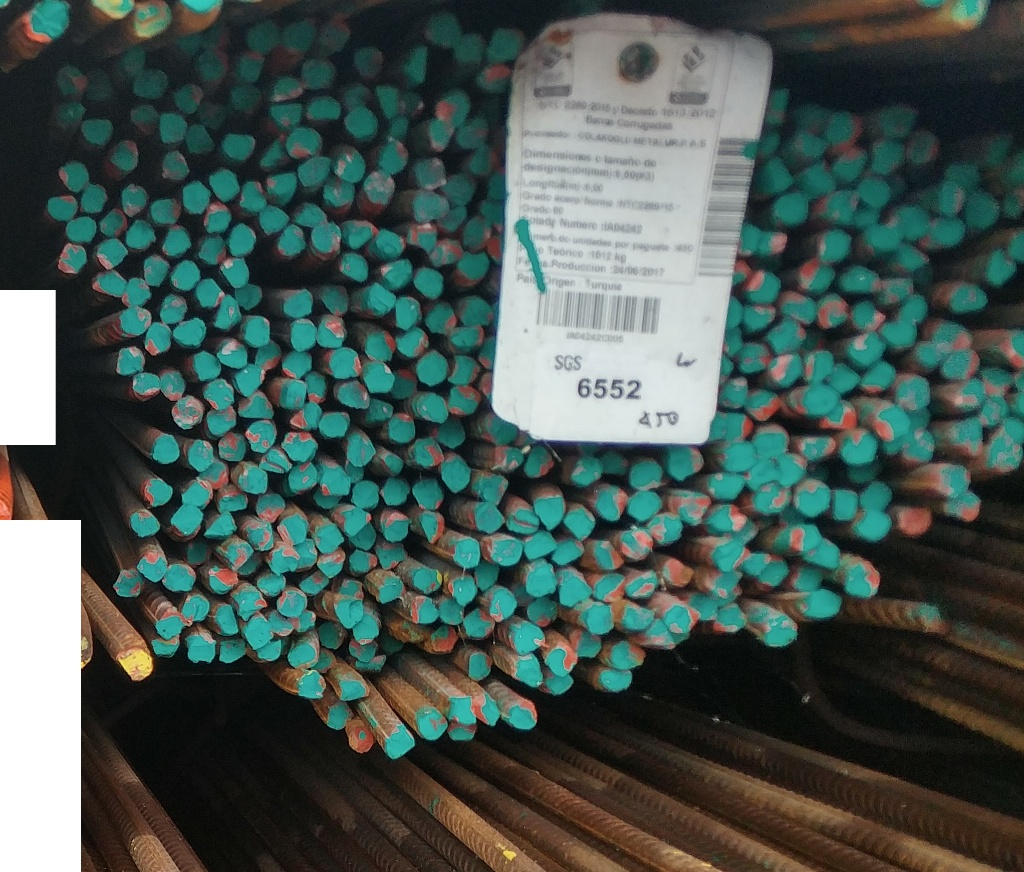dipstick: (25, 2, 79, 43), (418, 5, 465, 47), (983, 428, 1023, 474), (923, 315, 974, 351), (961, 186, 1000, 233), (746, 481, 796, 517), (742, 220, 787, 259), (872, 274, 919, 310), (433, 87, 475, 127), (769, 189, 812, 228), (842, 560, 886, 598), (839, 426, 883, 464), (666, 443, 707, 483), (459, 603, 501, 642), (129, 4, 172, 42), (671, 491, 714, 529), (856, 476, 899, 514), (967, 127, 1010, 165), (835, 259, 883, 293), (871, 102, 915, 139), (412, 348, 451, 389), (894, 501, 935, 540), (455, 291, 497, 329), (766, 314, 808, 352), (484, 27, 528, 63), (439, 173, 488, 205), (279, 15, 316, 57), (831, 147, 868, 189), (46, 100, 89, 136), (708, 538, 753, 572), (742, 270, 787, 304), (942, 282, 993, 312), (371, 134, 409, 174), (793, 478, 831, 518), (947, 415, 985, 455), (519, 559, 560, 596), (827, 111, 863, 153), (605, 636, 649, 670), (284, 124, 323, 162), (329, 146, 368, 184), (893, 202, 932, 240), (813, 227, 853, 264), (449, 31, 490, 67), (928, 460, 970, 495), (358, 281, 401, 315), (817, 190, 860, 224), (785, 129, 829, 162), (580, 600, 618, 638), (746, 384, 784, 422), (295, 155, 334, 192), (410, 475, 447, 514), (806, 534, 845, 571), (822, 396, 861, 433), (812, 291, 851, 328), (796, 258, 835, 295), (925, 180, 964, 217), (313, 312, 349, 352), (779, 288, 820, 323), (408, 704, 450, 738), (234, 462, 277, 495), (787, 562, 830, 595), (700, 470, 747, 500), (555, 572, 593, 609), (53, 158, 92, 194), (943, 157, 982, 193), (892, 295, 932, 330), (50, 62, 91, 96), (438, 450, 472, 491), (855, 509, 896, 543), (144, 195, 186, 228), (941, 347, 983, 380), (404, 189, 450, 219), (799, 590, 845, 620), (340, 106, 383, 138), (325, 349, 368, 381), (792, 382, 835, 414), (81, 65, 117, 103), (758, 157, 796, 193), (270, 224, 309, 259), (413, 265, 448, 304), (796, 162, 835, 197), (383, 724, 417, 764), (277, 285, 318, 318), (645, 513, 687, 545), (857, 363, 899, 395), (793, 434, 839, 463), (225, 219, 261, 256), (242, 17, 279, 53), (339, 215, 376, 251), (589, 485, 625, 522), (982, 248, 1018, 285), (362, 356, 397, 394), (362, 168, 396, 207), (409, 157, 448, 191), (485, 535, 524, 569), (338, 79, 378, 112), (636, 620, 680, 650), (399, 43, 431, 84), (564, 626, 605, 658), (779, 524, 824, 553), (736, 341, 778, 372), (869, 138, 905, 174), (318, 462, 353, 499), (454, 249, 491, 284), (565, 504, 600, 541), (620, 528, 657, 563), (195, 48, 233, 82), (231, 584, 269, 618), (340, 431, 374, 469), (587, 536, 625, 570), (477, 64, 520, 94), (625, 457, 664, 490), (627, 490, 666, 523), (769, 352, 808, 385), (188, 627, 220, 667), (471, 471, 511, 503), (445, 385, 485, 417), (479, 412, 519, 444), (845, 333, 885, 365), (598, 665, 639, 696), (117, 182, 152, 218), (171, 395, 206, 431), (206, 167, 242, 202), (856, 176, 892, 211), (199, 377, 236, 411), (309, 220, 343, 257), (254, 134, 291, 168), (301, 58, 338, 92), (686, 586, 723, 620), (93, 237, 131, 270), (130, 67, 168, 100), (167, 82, 205, 115), (793, 102, 831, 135), (320, 16, 352, 55), (379, 476, 418, 508), (487, 583, 519, 622), (525, 595, 564, 627), (717, 409, 756, 441), (906, 129, 938, 168), (701, 568, 744, 597), (376, 256, 416, 287), (393, 292, 423, 333), (941, 493, 982, 523), (54, 239, 89, 274), (318, 282, 353, 317), (445, 571, 480, 606), (545, 641, 580, 676), (509, 655, 544, 690), (506, 698, 541, 733), (232, 50, 268, 84), (448, 534, 482, 570), (415, 391, 449, 427), (220, 254, 257, 287), (179, 179, 212, 216), (127, 104, 164, 137), (283, 430, 320, 463), (370, 572, 407, 605), (929, 214, 966, 247), (211, 292, 243, 330), (334, 378, 372, 410), (758, 557, 796, 589), (707, 505, 750, 533), (888, 244, 931, 272), (161, 563, 201, 593), (158, 291, 192, 326), (167, 258, 202, 292), (227, 81, 262, 115), (119, 646, 154, 680), (902, 429, 937, 463), (662, 604, 703, 633), (660, 554, 696, 587), (244, 416, 276, 453), (408, 436, 445, 468), (743, 302, 780, 334), (460, 213, 491, 251), (718, 373, 749, 411), (338, 508, 377, 538), (615, 601, 654, 631), (862, 220, 901, 250), (113, 569, 153, 598), (718, 441, 758, 470), (191, 277, 225, 311), (384, 411, 418, 445), (978, 363, 1012, 397), (350, 44, 385, 77), (363, 327, 396, 362), (242, 614, 275, 649), (716, 601, 749, 636), (774, 453, 809, 486), (343, 718, 376, 753), (197, 235, 233, 267), (220, 130, 256, 162), (255, 205, 291, 237), (524, 444, 556, 480), (417, 509, 448, 546), (268, 72, 306, 102), (304, 93, 342, 123), (202, 511, 240, 541), (272, 587, 310, 617), (314, 550, 352, 580), (141, 251, 170, 290), (123, 218, 157, 251), (173, 316, 207, 349), (241, 315, 274, 349), (158, 110, 191, 144), (463, 650, 497, 683), (117, 304, 152, 336), (333, 595, 365, 630), (472, 502, 507, 534), (535, 490, 563, 530), (167, 505, 203, 536), (217, 538, 253, 569), (899, 376, 935, 407), (275, 515, 312, 545), (628, 565, 658, 602), (290, 200, 328, 229), (265, 100, 304, 128), (253, 492, 286, 525), (243, 518, 276, 551), (423, 302, 456, 335), (161, 222, 193, 256), (140, 473, 174, 505), (158, 147, 190, 181), (323, 175, 355, 209), (457, 120, 491, 152), (468, 143, 500, 177), (336, 251, 370, 283), (310, 520, 344, 552), (446, 352, 480, 384), (594, 570, 626, 604), (804, 350, 836, 384), (201, 405, 236, 436), (268, 170, 299, 205), (424, 117, 455, 152), (275, 380, 310, 411), (216, 431, 251, 462), (510, 620, 545, 651), (119, 276, 155, 306), (252, 568, 288, 598), (569, 456, 605, 486), (43, 193, 80, 222), (368, 229, 405, 258), (519, 532, 556, 561), (825, 364, 862, 393), (180, 479, 221, 505), (881, 320, 919, 348), (77, 181, 109, 214), (374, 536, 407, 568), (412, 563, 444, 596), (397, 326, 429, 359), (323, 699, 356, 731), (952, 378, 984, 411), (180, 592, 210, 627), (317, 408, 352, 438), (350, 481, 385, 511), (89, 268, 125, 297), (158, 362, 187, 398), (184, 435, 213, 471), (240, 178, 269, 214), (207, 567, 243, 596), (904, 406, 942, 433), (107, 140, 139, 172), (155, 609, 187, 641), (507, 503, 539, 535), (875, 407, 907, 439), (201, 201, 232, 234), (117, 45, 148, 78), (286, 639, 319, 670), (409, 593, 440, 626), (753, 427, 786, 458), (979, 394, 1010, 427), (149, 435, 183, 465), (185, 120, 215, 154), (425, 623, 459, 653), (763, 617, 797, 647), (63, 215, 98, 244), (253, 339, 282, 374), (446, 325, 485, 351), (281, 351, 318, 378), (335, 674, 372, 701), (474, 691, 501, 728), (98, 206, 130, 237), (233, 364, 265, 395), (138, 552, 169, 584), (128, 370, 161, 400), (234, 284, 267, 314), (289, 539, 319, 572), (240, 394, 278, 420), (290, 670, 328, 696), (428, 238, 466, 264), (80, 116, 114, 145), (215, 483, 249, 512), (212, 603, 241, 637), (290, 402, 324, 431), (435, 202, 469, 231), (376, 81, 404, 116), (145, 320, 172, 356), (296, 569, 333, 595), (288, 461, 319, 492), (261, 446, 293, 476), (448, 693, 478, 725), (218, 338, 247, 371), (213, 638, 246, 667), (750, 460, 784, 488), (266, 545, 301, 572), (192, 349, 222, 380), (352, 615, 383, 645), (375, 445, 405, 476), (288, 319, 317, 351), (913, 342, 945, 371), (346, 547, 379, 575), (392, 367, 420, 400), (852, 300, 885, 328), (199, 98, 229, 128), (117, 347, 146, 378), (316, 621, 347, 650), (833, 486, 856, 525), (552, 538, 585, 565), (344, 638, 382, 661), (494, 443, 524, 472), (129, 509, 160, 537), (363, 394, 394, 422), (184, 539, 213, 568), (352, 656, 394, 676), (199, 459, 230, 486), (544, 669, 575, 696), (383, 515, 414, 541), (437, 596, 465, 624), (266, 611, 296, 637), (720, 325, 745, 356), (600, 449, 627, 476), (151, 632, 181, 656), (256, 642, 285, 665), (724, 295, 745, 326), (405, 218, 422, 253), (343, 460, 367, 482), (297, 610, 318, 634)
